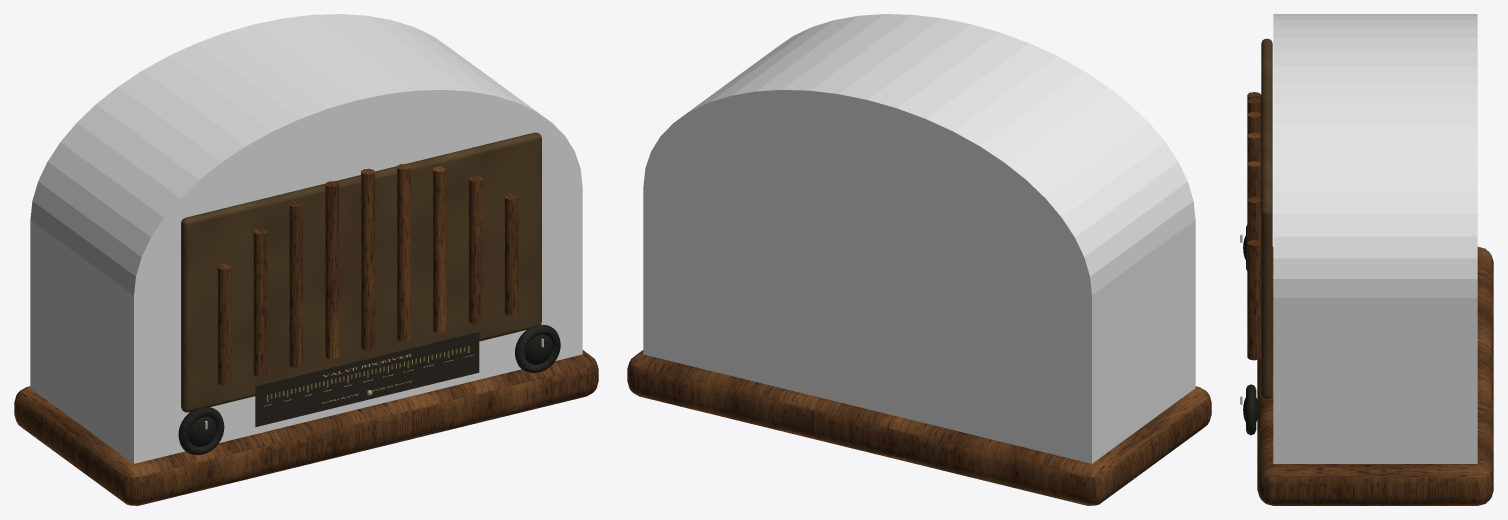
Rendered from Radio.fbx.
The picture shows the model from 3 angles, left to right: view 1: azimuth 30°, elevation 25°; view 2: azimuth 150°, elevation 25°; view 3: azimuth 270°, elevation 25°; orthographic projection.
Visible parts, largest first — view 1: Radio_Walnut, Radio_Speaker, Radio_SmokedOak, Radio_Decals, Radio_Iron; view 2: Radio_Walnut, Radio_SmokedOak; view 3: Radio_Walnut, Radio_SmokedOak, Radio_Speaker, Radio_Iron.
Boxes of the visible parts, <box> form: Radio_Walnut: <box>30,14,582,463</box>; Radio_Speaker: <box>181,132,541,412</box>; Radio_SmokedOak: <box>14,163,598,505</box>; Radio_Decals: <box>255,331,479,427</box>; Radio_Iron: <box>178,325,560,454</box>; Radio_Walnut: <box>643,14,1195,463</box>; Radio_SmokedOak: <box>627,350,1211,505</box>; Radio_Walnut: <box>1273,14,1477,463</box>; Radio_SmokedOak: <box>1247,92,1493,505</box>; Radio_Speaker: <box>1261,38,1272,398</box>; Radio_Iron: <box>1243,225,1258,435</box>.
Bounding box in the file's own units: 85 × 59.7 × 39.7.
